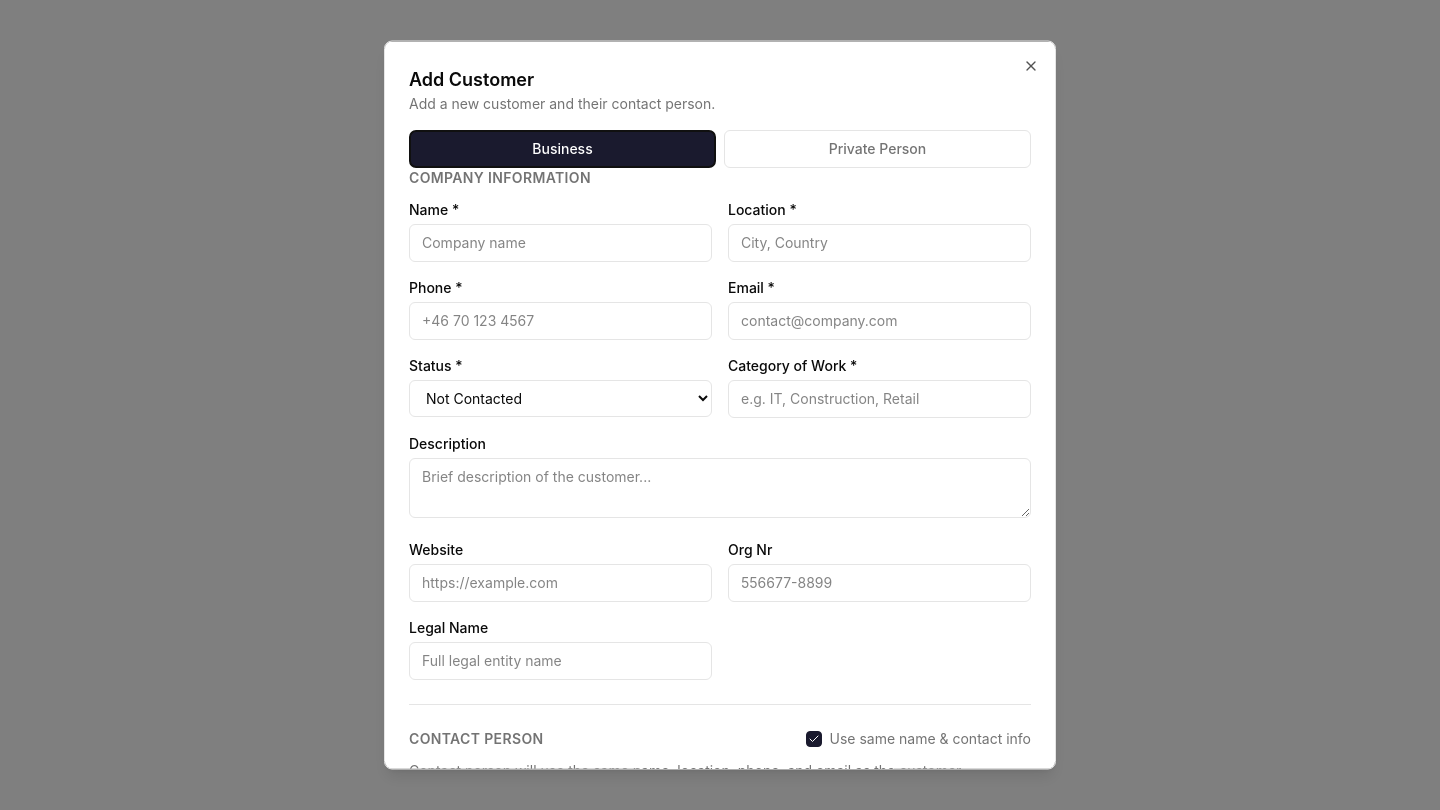
Test case: AddCustomerDialog › should show user fields when 'use same info' is unchecked
Click the checkbox at (814, 738), box [806,730,822,746]
(page scrolled)
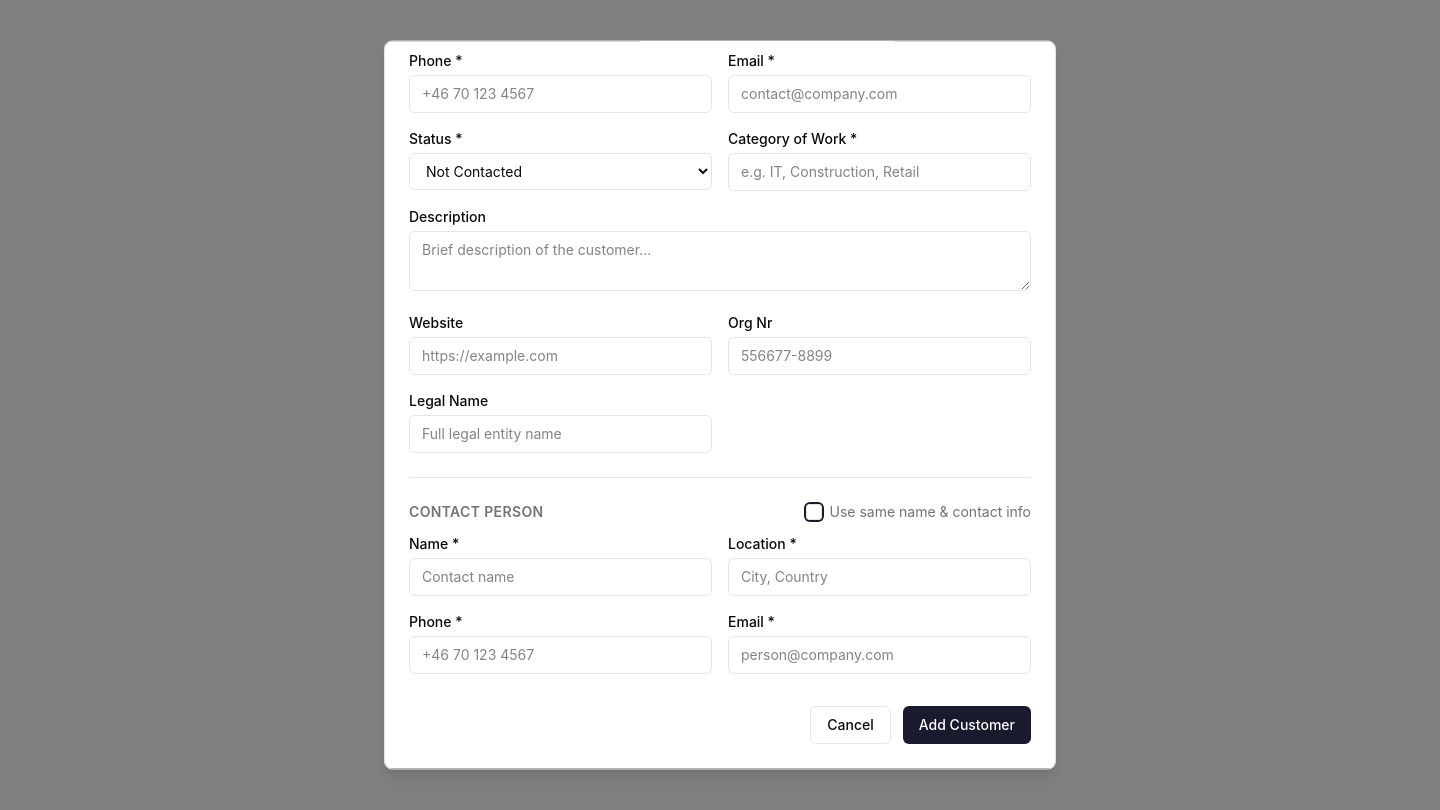
expect the field with placeholder "Contact name" is shown: met, box [409,558,712,596]
expect the field with placeholder "person@company.com" is shown: met, box [728,636,1031,674]
